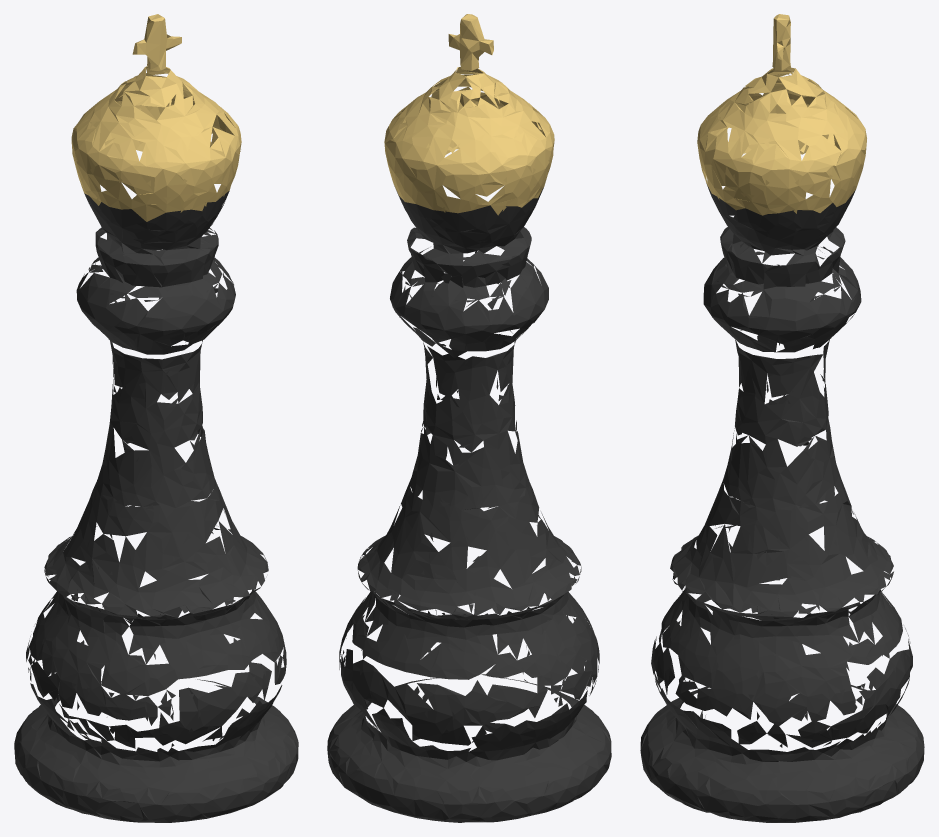
File: gercek7_k_b.glb
3 views of the same model, side by side, from view 1: azimuth 30°, elevation 25°; view 2: azimuth 150°, elevation 25°; view 3: azimuth 270°, elevation 25° (orthographic).
Visible parts, largest first — view 1: world; view 2: world; view 3: world.
Boxes of the visible parts, bbox=[...] form: world: bbox=[14, 14, 298, 822]; world: bbox=[327, 14, 611, 822]; world: bbox=[640, 14, 924, 822].
Size of the model in its own units: 0.3053 by 0.9 by 0.3058.
